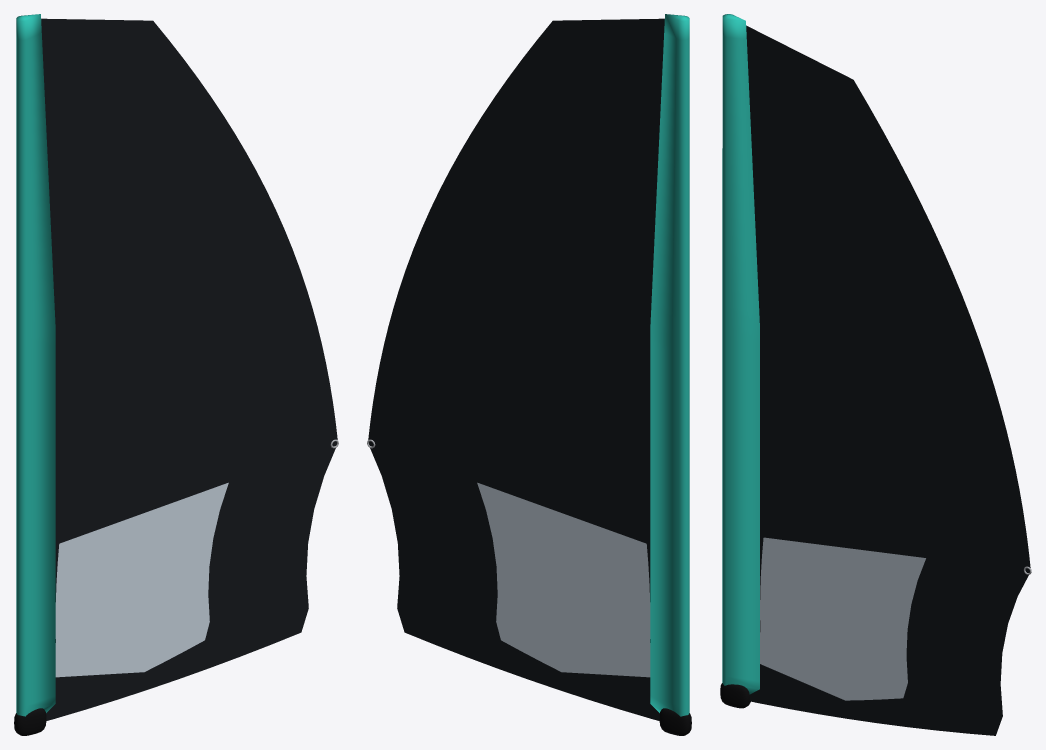
The model's file is tripletone_slalom_6_2.glb.
The picture shows the model from 3 angles, left to right: view 1: azimuth 30°, elevation 25°; view 2: azimuth 150°, elevation 25°; view 3: azimuth 330°, elevation 25°; orthographic projection. The views are drawn at different scales.
Visible parts, largest first — view 1: SailCloth, TackFairing; view 2: SailCloth, TackFairing; view 3: SailCloth, TackFairing.
Part boxes in pixels (box(x1,y1,x2,y2)): SailCloth: box(16, 14, 337, 720); TackFairing: box(14, 708, 46, 735); SailCloth: box(368, 14, 689, 720); TackFairing: box(659, 708, 691, 735); SailCloth: box(722, 14, 1030, 735); TackFairing: box(720, 683, 750, 708).
Bounding box in the file's own units: 1.97 × 4.19 × 0.08.
